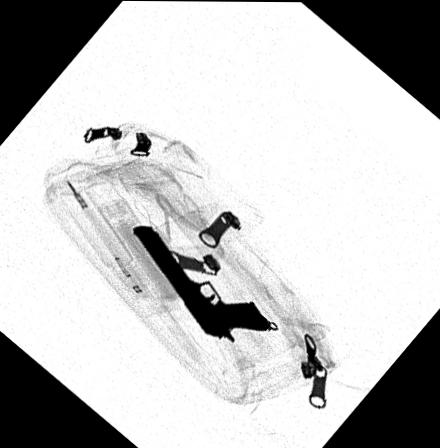Gun: (128, 224, 271, 342)
